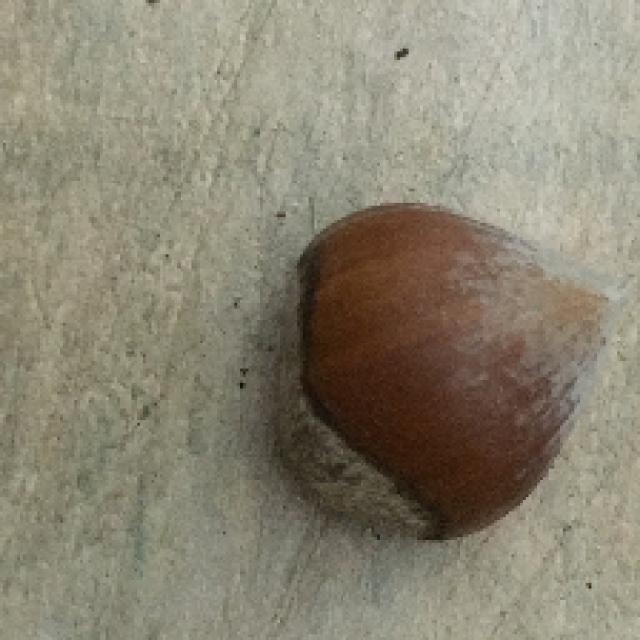QualityHazelnut: (271, 200, 630, 543)
